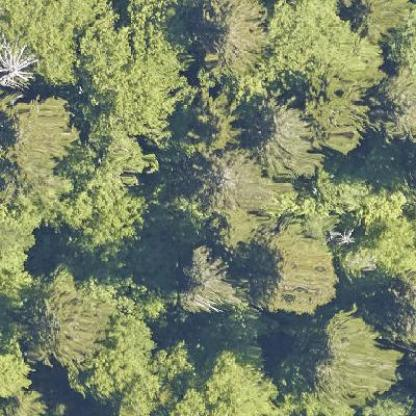tree-top: (76, 13, 188, 140), (266, 4, 386, 96), (325, 178, 415, 281), (309, 314, 403, 403), (23, 270, 107, 366), (257, 226, 344, 315), (66, 174, 146, 254), (247, 98, 320, 182), (2, 98, 77, 179), (194, 350, 278, 415), (176, 238, 234, 316), (206, 5, 265, 74), (197, 154, 263, 210), (183, 88, 239, 151), (375, 70, 415, 142), (353, 0, 404, 37), (0, 340, 30, 399), (0, 37, 34, 87), (5, 385, 50, 415)
